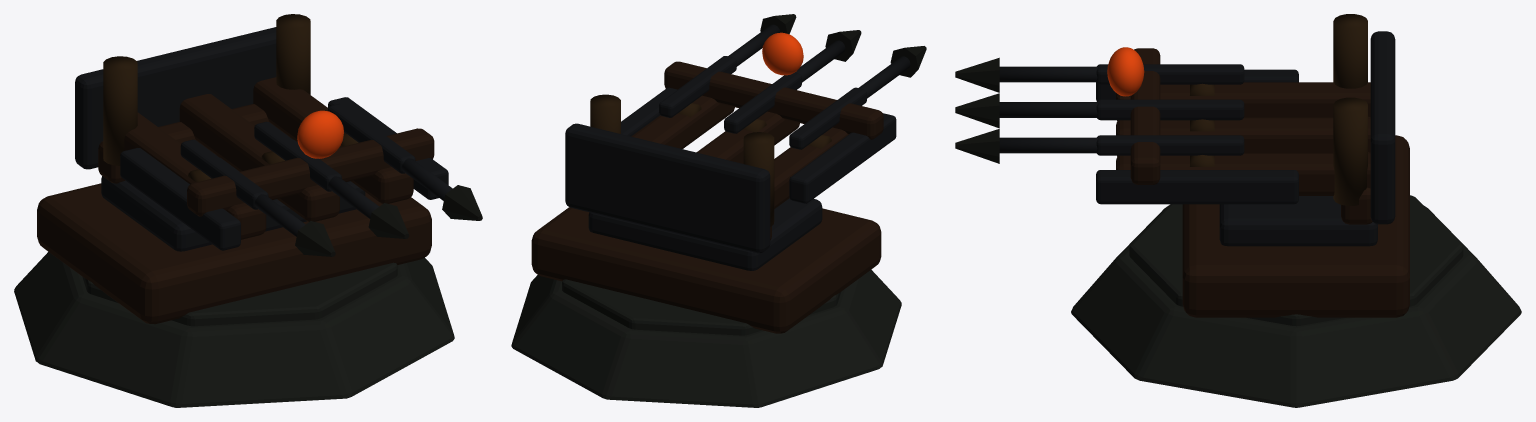
File: TowerMulti3.obj
3 renders of one model, left to right at view 1: azimuth 30°, elevation 25°; view 2: azimuth 150°, elevation 25°; view 3: azimuth 270°, elevation 25°, orthographic. The views are drawn at different scales.
Parts seen in each view (by area): view 1: rough_stone_plinth_lower_course, oak_firing_deck, iron_volley_shield, rough_stone_plinth_upper_course, volley_bow_stock.001, extra_bow_brace, volley_bow_stock.002, iron_turntable, apex_bolt_rack, volley_bow_stock, apex_bolt_rack.001, volley_bow_limb (+14 smaller); view 2: rough_stone_plinth_lower_course, oak_firing_deck, iron_volley_shield, iron_turntable, rough_stone_plinth_upper_course, extra_bow_brace, volley_bow_stock.002, volley_bow_limb, volley_bow_stock.001, volley_bow_stock, volley_bow_limb.002, volley_bow_limb.001 (+13 smaller); view 3: rough_stone_plinth_lower_course, oak_firing_deck, rough_stone_plinth_upper_course, extra_bow_brace.001, iron_turntable, iron_volley_shield, volley_bow_stock, volley_bow_stock.001, volley_bow_stock.002, apex_bolt_rack.001, volley_iron_guide.001, volley_iron_guide.002 (+14 smaller).
Boxes of the visible parts, box(x1,y1,x2,y2) form: rough_stone_plinth_lower_course: box(14, 252, 454, 407); oak_firing_deck: box(37, 183, 431, 324); iron_volley_shield: box(75, 27, 276, 169); rough_stone_plinth_upper_course: box(82, 262, 397, 326); volley_bow_stock.001: box(179, 94, 339, 221); extra_bow_brace: box(120, 148, 240, 250); volley_bow_stock.002: box(253, 77, 413, 203); iron_turntable: box(101, 139, 365, 251); apex_bolt_rack: box(103, 56, 137, 165); volley_bow_stock: box(124, 112, 266, 239); apex_bolt_rack.001: box(276, 14, 310, 94); volley_bow_limb: box(187, 164, 283, 216); rough_stone_plinth_lower_course: box(511, 269, 901, 407); oak_firing_deck: box(531, 207, 881, 333); iron_volley_shield: box(565, 123, 770, 253); iron_turntable: box(588, 198, 822, 270); rough_stone_plinth_upper_course: box(562, 279, 840, 335); extra_bow_brace: box(789, 113, 896, 203); volley_bow_stock.002: box(631, 95, 734, 148); volley_bow_limb: box(798, 93, 883, 139); volley_bow_stock.001: box(696, 111, 799, 163); volley_bow_stock: box(774, 127, 848, 208); volley_bow_limb.002: box(664, 61, 747, 107); volley_bow_limb.001: box(733, 77, 808, 122); rough_stone_plinth_lower_course: box(1071, 205, 1521, 407); oak_firing_deck: box(1182, 135, 1409, 317); rough_stone_plinth_upper_course: box(1129, 195, 1463, 326); extra_bow_brace.001: box(1096, 170, 1298, 204); iron_turntable: box(1219, 196, 1377, 246); iron_volley_shield: box(1370, 31, 1395, 224); volley_bow_stock: box(1116, 82, 1370, 120); volley_bow_stock.001: box(1116, 117, 1370, 156); volley_bow_stock.002: box(1116, 153, 1370, 195); apex_bolt_rack.001: box(1333, 97, 1367, 205); volley_iron_guide.001: box(1096, 99, 1244, 120); volley_iron_guide.002: box(1096, 135, 1244, 155).
Size of the model in its own units: 1.82 by 1.18 by 2.29.
